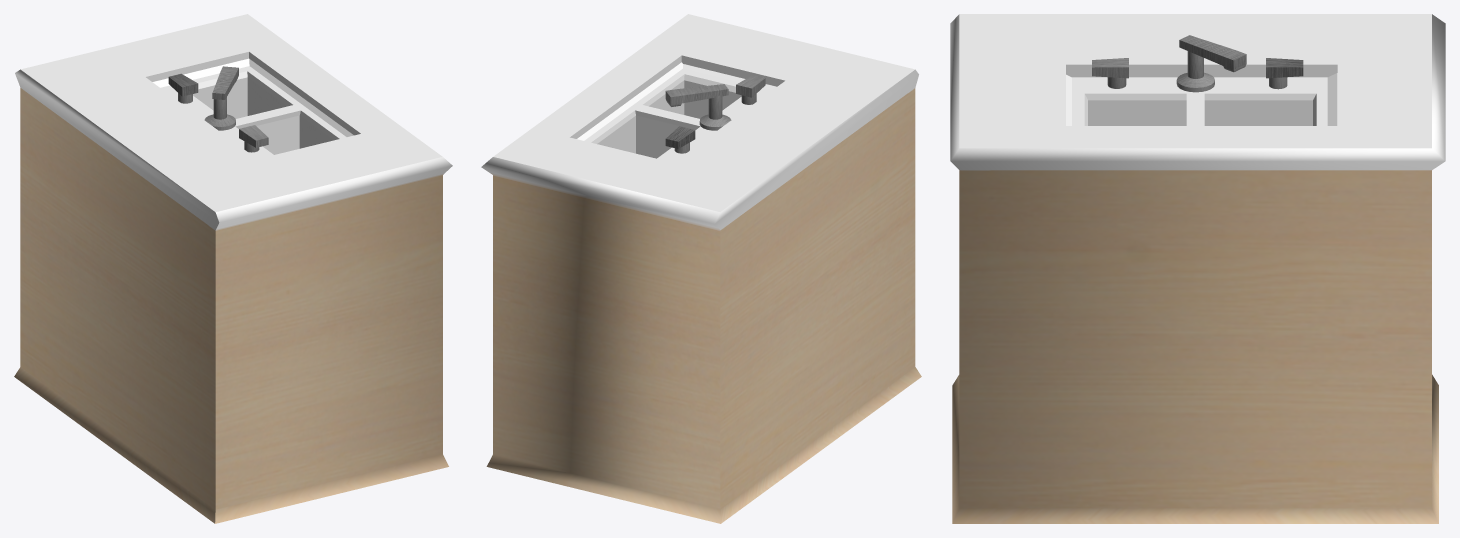
Rendered from Sink.fbx.
3 views of the same model, side by side, from view 1: azimuth 30°, elevation 25°; view 2: azimuth 150°, elevation 25°; view 3: azimuth 270°, elevation 25° (orthographic). The views are drawn at different scales.
Parts seen in each view (by area): view 1: pCube5; view 2: pCube5; view 3: pCube5.
Boxes of the visible parts, box(x1,y1,x2,y2) form: pCube5: box(14, 14, 452, 523); pCube5: box(481, 14, 921, 523); pCube5: box(950, 14, 1445, 523).
Bounding box in the file's own units: 3.58 × 4.86 × 5.34.
